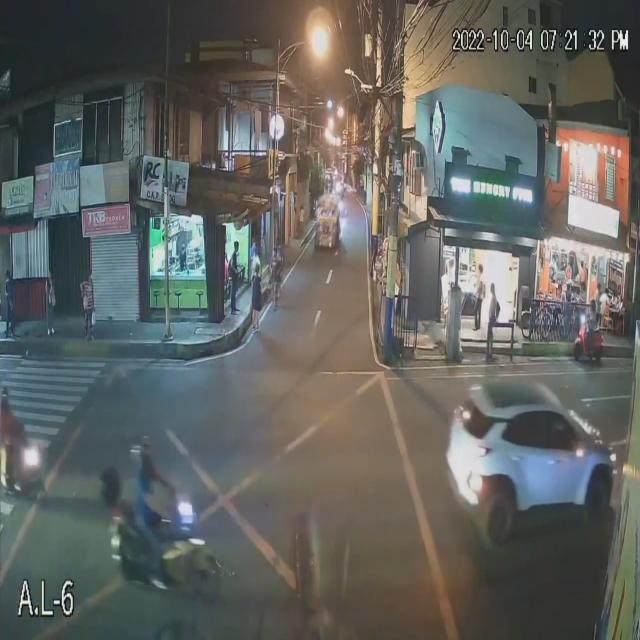Full-Faced: (130, 435, 154, 467), (0, 378, 12, 408)
